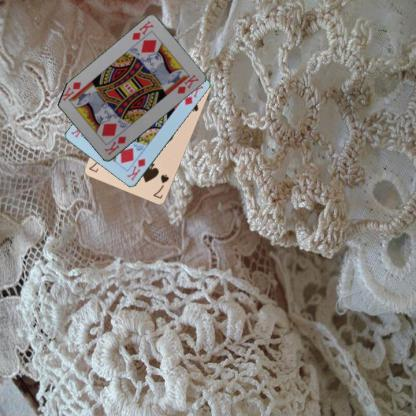7s: (151, 172, 170, 200)
Kd: (130, 18, 156, 42), (124, 156, 147, 182), (102, 134, 128, 157)
